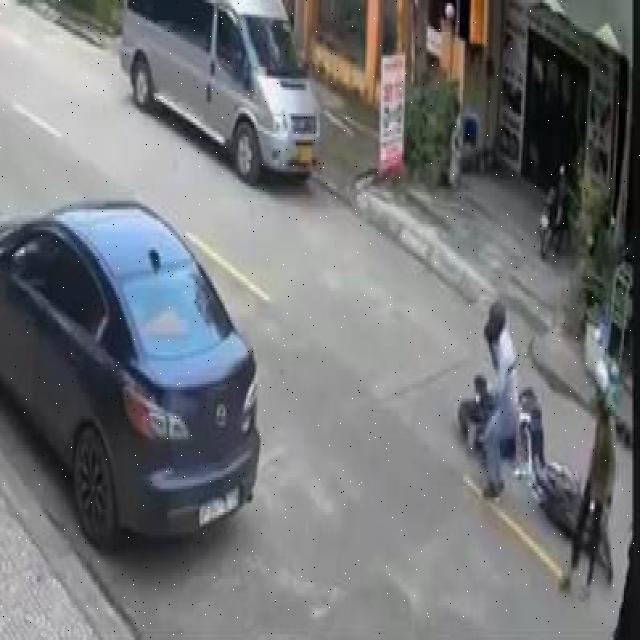accident: (455, 288, 624, 599)
